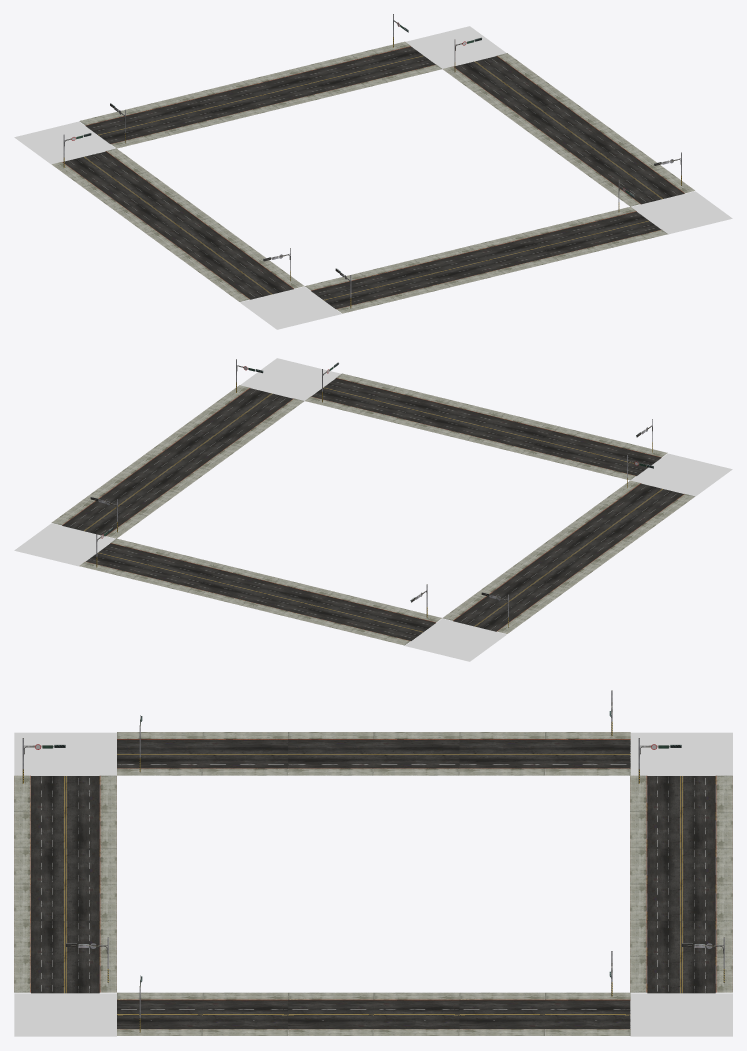
The model's file is road_traffic_sign.glb.
3 views of the same model, one above another, from view 1: azimuth 30°, elevation 25°; view 2: azimuth 150°, elevation 25°; view 3: azimuth 270°, elevation 25° (orthographic). The views are drawn at different scales.
Parts seen in each view (by area): view 1: road_03__0.010, road_03__0.005, road_03__0.003, road_03__0.009, road_03__0.004, road_03__0.011, road_03__0.007, road_03__0.006, road_03__0.001, road_03, road_03__0.002, road_03__0.008 (+4 smaller); view 2: road_03__0.009, road_03__0.010, road_03__0.011, road_03__0.004, road_03__0.005, road_03__0.007, road_03__0.002, road_03__0.001, road_03__0.008, road_03__0.003, road_03, road_03__0.006 (+4 smaller); view 3: road_03, road_03__0.001, road_03__0.007, road_03__0.006, road_03__0.002, road_03__0.008, road_03__0.004, road_03__0.010, road_03__0.003, road_03__0.009, road_03__0.005, road_03__0.011 (+4 smaller).
Part boxes in pixels (left/top/right/bottom): road_03__0.010: left=188, top=68, right=333, bottom=121; road_03__0.005: left=522, top=206, right=667, bottom=260; road_03__0.003: left=305, top=259, right=450, bottom=313; road_03__0.009: left=79, top=94, right=224, bottom=148; road_03__0.004: left=414, top=233, right=559, bottom=286; road_03__0.011: left=296, top=41, right=441, bottom=95; road_03__0.007: left=505, top=99, right=632, bottom=160; road_03__0.006: left=442, top=53, right=569, bottom=114; road_03__0.001: left=114, top=194, right=241, bottom=255; road_03: left=52, top=148, right=178, bottom=209; road_03__0.002: left=177, top=240, right=304, bottom=301; road_03__0.008: left=568, top=145, right=694, bottom=206; road_03__0.009: left=296, top=591, right=441, bottom=645; road_03__0.010: left=188, top=565, right=333, bottom=618; road_03__0.011: left=79, top=538, right=224, bottom=592; road_03__0.004: left=413, top=400, right=558, bottom=453; road_03__0.005: left=305, top=373, right=449, bottom=427; road_03__0.007: left=114, top=431, right=241, bottom=492; road_03__0.002: left=568, top=480, right=694, bottom=542; road_03__0.001: left=505, top=526, right=632, bottom=587; road_03__0.008: left=177, top=385, right=304, bottom=446; road_03__0.003: left=522, top=426, right=667, bottom=480; road_03: left=442, top=572, right=569, bottom=633; road_03__0.006: left=51, top=477, right=178, bottom=538; road_03: left=459, top=732, right=630, bottom=775; road_03__0.001: left=288, top=732, right=459, bottom=775; road_03__0.007: left=288, top=992, right=459, bottom=1035; road_03__0.006: left=459, top=992, right=630, bottom=1035; road_03__0.002: left=117, top=732, right=288, bottom=775; road_03__0.008: left=117, top=992, right=288, bottom=1035; road_03__0.004: left=14, top=848, right=116, bottom=920; road_03__0.010: left=630, top=848, right=732, bottom=920; road_03__0.003: left=14, top=775, right=116, bottom=848; road_03__0.009: left=630, top=775, right=732, bottom=848; road_03__0.005: left=14, top=920, right=116, bottom=993; road_03__0.011: left=630, top=920, right=732, bottom=993.
Size of the model in its own units: 933 by 65.71 by 932.
1 material, 1 textured.
